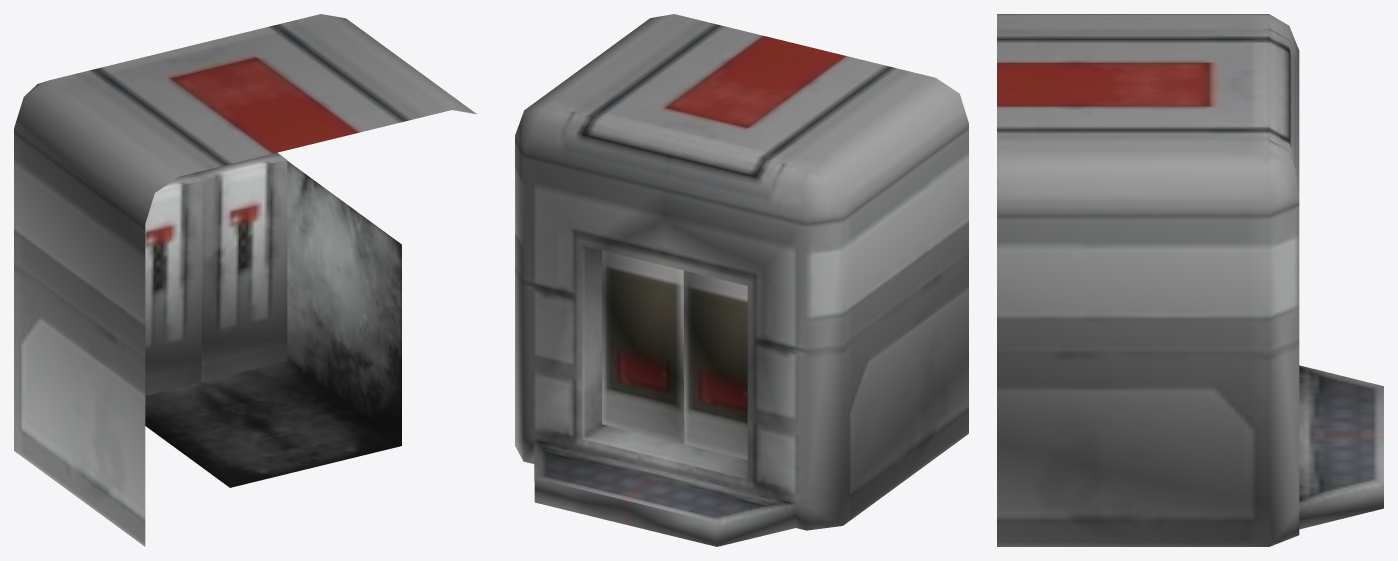
The model's file is Part - Door 01 frame-NqWdUiXN.glb.
3 views of the same model, side by side, from view 1: azimuth 30°, elevation 25°; view 2: azimuth 150°, elevation 25°; view 3: azimuth 270°, elevation 25° (orthographic). The views are drawn at different scales.
Parts seen in each view (by area): view 1: Door_01_frame, Door_01_left, Door_01_right; view 2: Door_01_frame, Door_01_left, Door_01_right; view 3: Door_01_frame.
Boxes of the visible parts, x1=… form: Door_01_frame: x1=14, y1=14, x2=476, y2=546; Door_01_left: x1=192, y1=152, x2=287, y2=381; Door_01_right: x1=145, y1=173, x2=202, y2=395; Door_01_frame: x1=515, y1=14, x2=968, y2=546; Door_01_left: x1=602, y1=250, x2=684, y2=443; Door_01_right: x1=683, y1=270, x2=747, y2=459; Door_01_frame: x1=997, y1=14, x2=1383, y2=546.
Size of the model in its own units: 1.13 by 1.15 by 1.07.
Materials: 1 (1 with a texture image).
